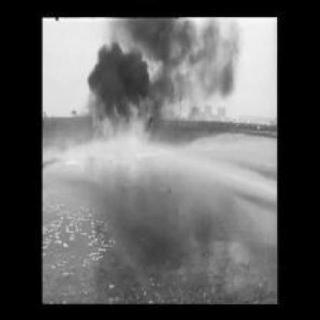Fire: (88, 95, 164, 137)
Smoke: (91, 19, 245, 93)
